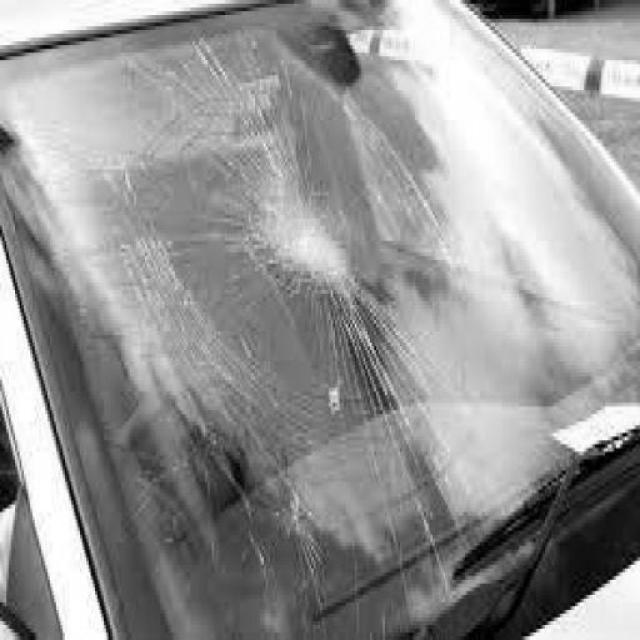crack: (253, 181, 355, 286)
